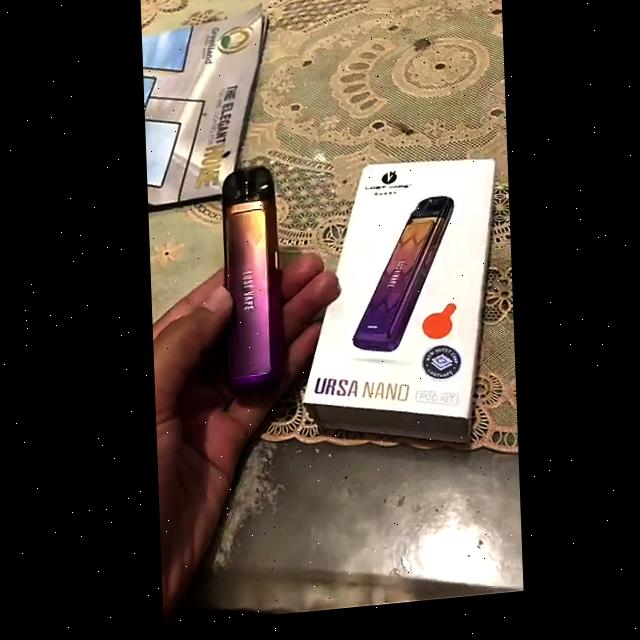vape: (346, 205, 456, 364), (216, 168, 286, 408)
